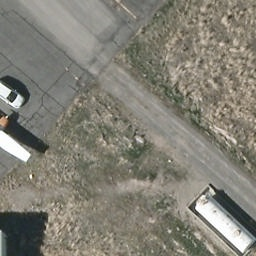car: (0, 81, 27, 107)
plane: (0, 89, 44, 187)
